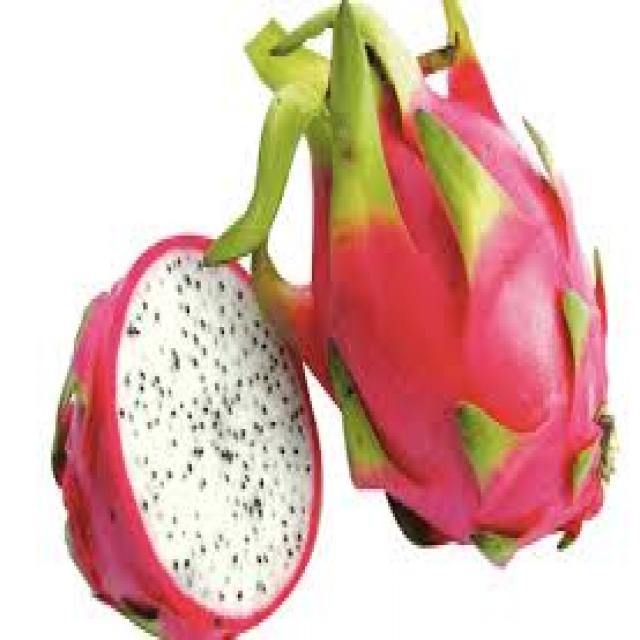organic waste: (203, 0, 615, 563), (48, 228, 319, 636)
